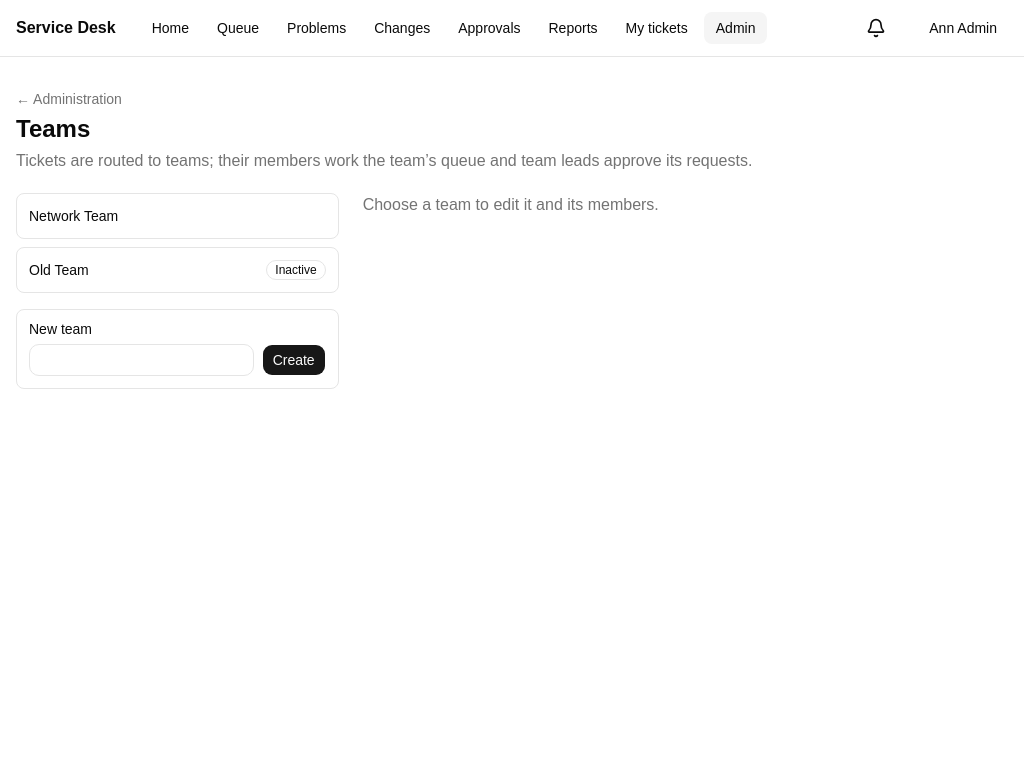
Test: teams › adds active staff to a team, never requesters, and explains a refused removal
Expected: the icon "Inactive" is shown, [266,260,326,280]
Click the button "Network Team".
click(74, 216)  # box [16,193,339,239]
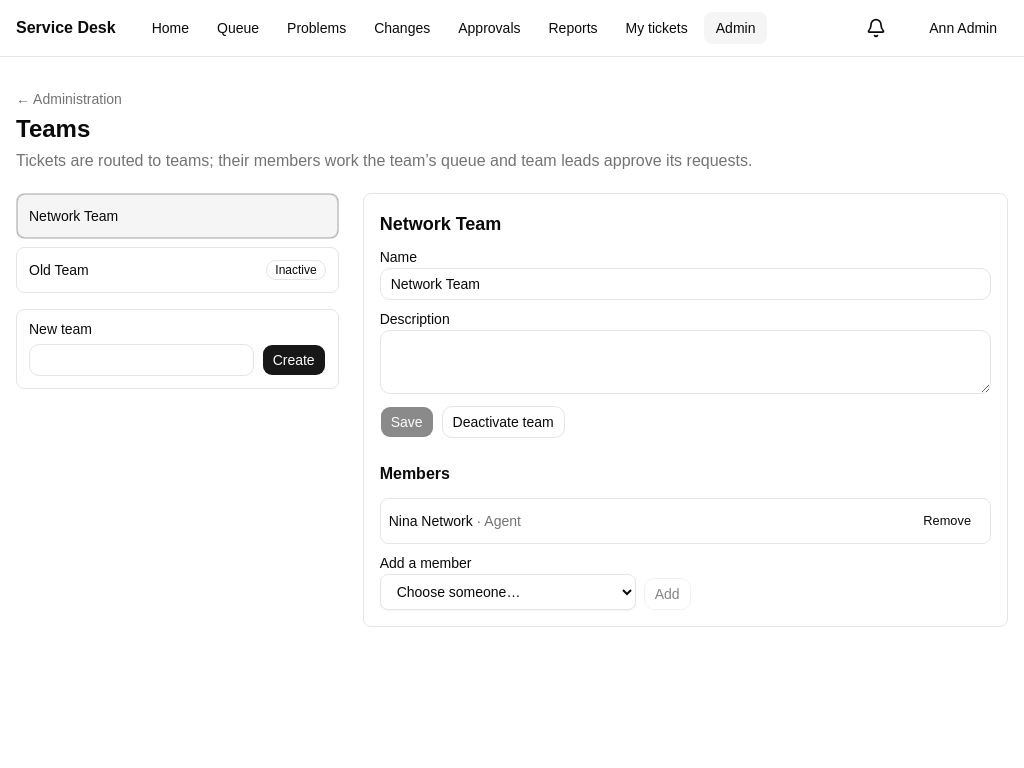
Now the text "Nina Network" is shown, box [389,513,473,529]
Select "Leo Lead (Team lead)" in the dropdown labelled "Add a member" at (508, 592), box [380,574,636,610]
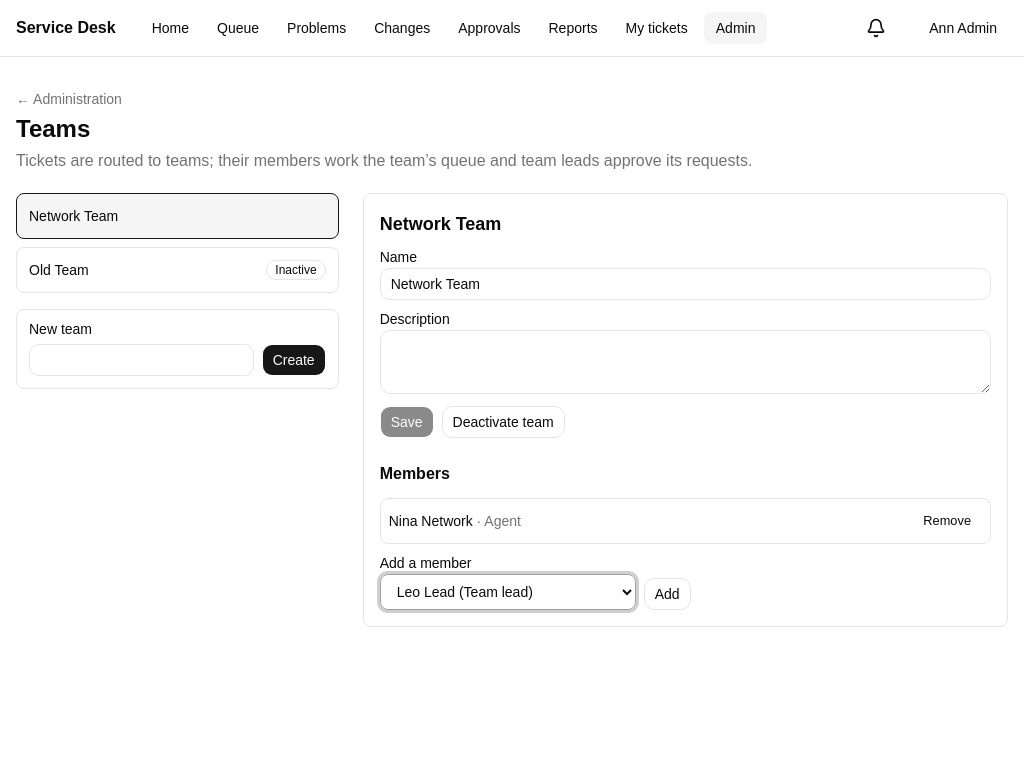
Click the button "Add".
click(667, 594)  # box [644,578,691,610]
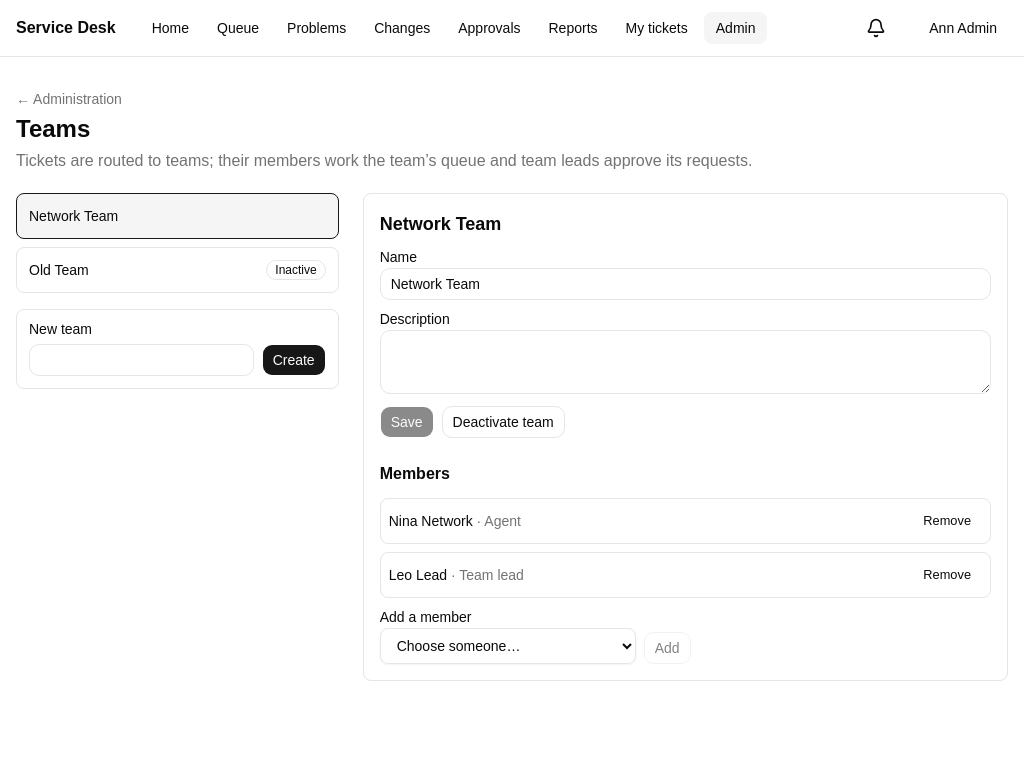
Now the text "Leo Lead" is shown, box [389,567,447,583]
Click the button with aria-label "Remove Nina Network".
click(947, 521)  # box [912,507,982,535]
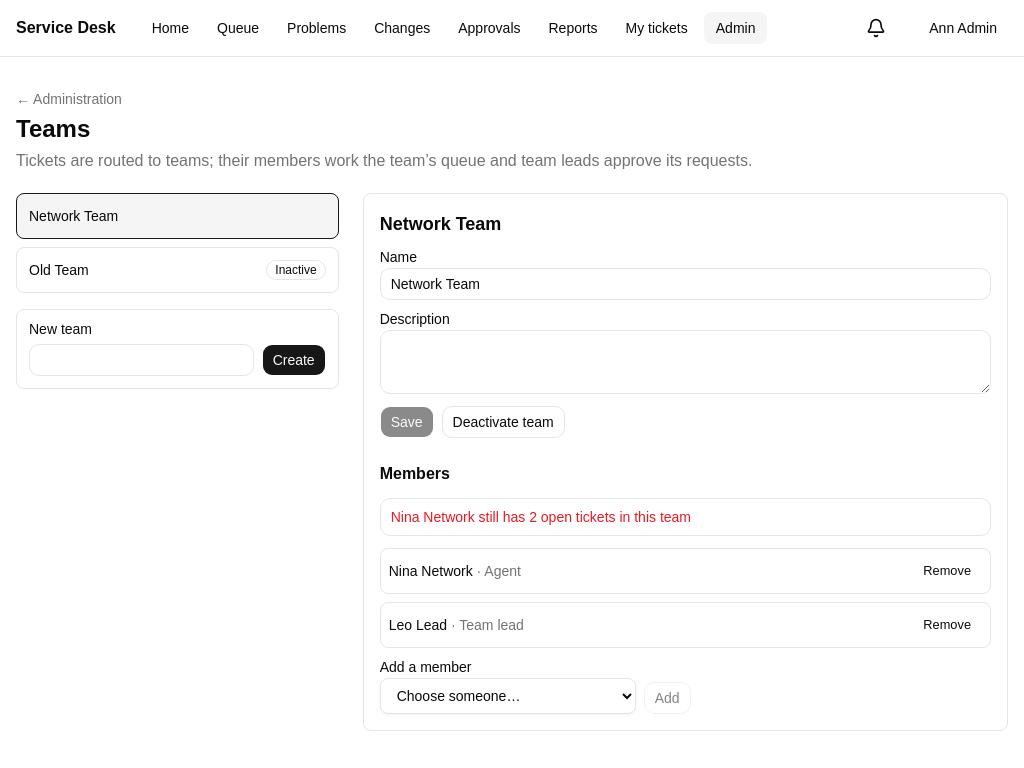
Now the message shows "still has 2 open tickets", box [391,509,691,525]
